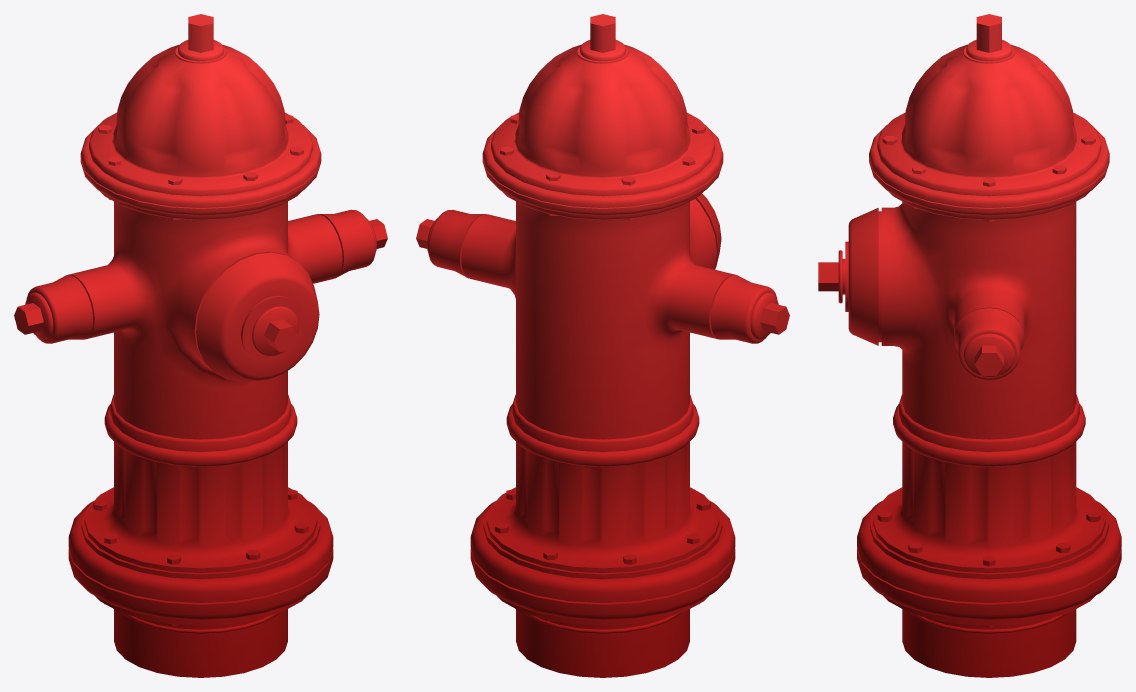
File: fire_hydrant_01.glb
3 renders of one model, left to right at view 1: azimuth 30°, elevation 25°; view 2: azimuth 150°, elevation 25°; view 3: azimuth 270°, elevation 25°, orthographic.
Visible parts, largest first — view 1: fire_hydrant_01; view 2: fire_hydrant_01; view 3: fire_hydrant_01.
Part boxes in pixels (<box>): fire_hydrant_01: <box>14,14,387,677</box>; fire_hydrant_01: <box>416,14,789,677</box>; fire_hydrant_01: <box>818,14,1121,677</box>.
Size of the model in its own units: 0.4358 by 0.7196 by 0.3185.
Materials: 1 (1 with a texture image).
